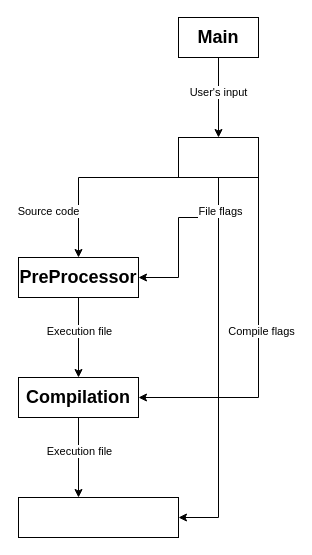
Image size: 312x555. Some labels were removed from this diagram. The centre of each missing label's shape, as x and y in pixels:
Input: (x=218, y=157)
PostProcessor: (x=98, y=517)
